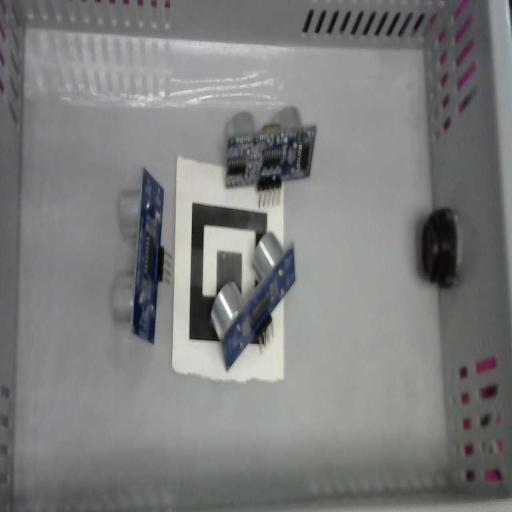QR: (172, 156, 285, 384)
ultrasonic_hc-sr04: (211, 230, 296, 371), (112, 167, 172, 346), (225, 105, 318, 211)
